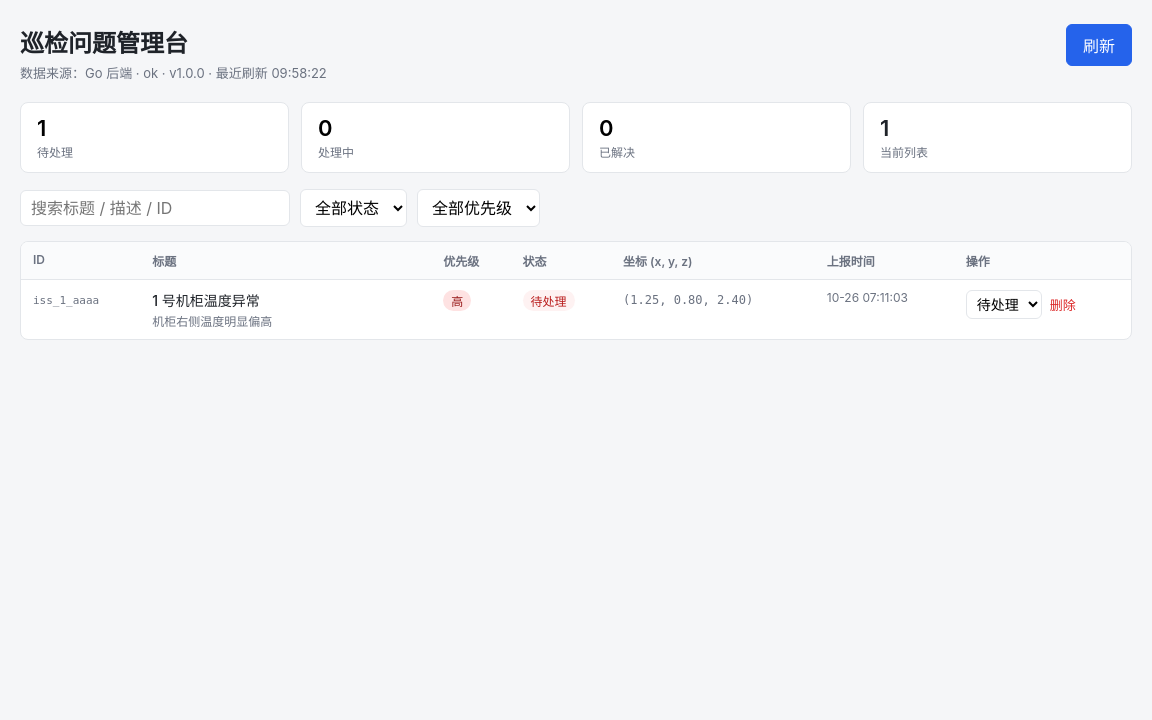
Test: 管理端 › 状态修改失败时回滚并给出错误提示
Select "已解决" in the dropdown named "修改「1 号机柜温度异常」的状态" at (1004, 304), box top-left (966, 290), bottom-right (1042, 319)
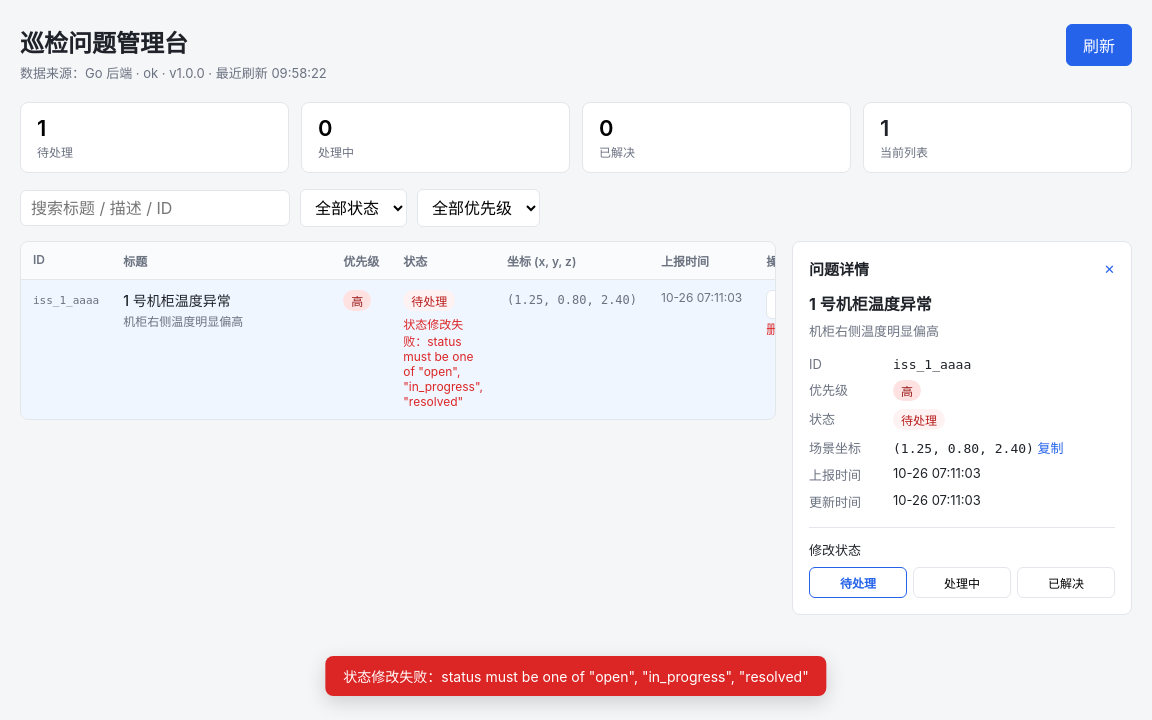
Result: the message "状态修改失败：status must be one of \"open\", \"in_progress\", \"resolved\"" below "标题" is shown at top-left (403, 317), bottom-right (483, 409)
